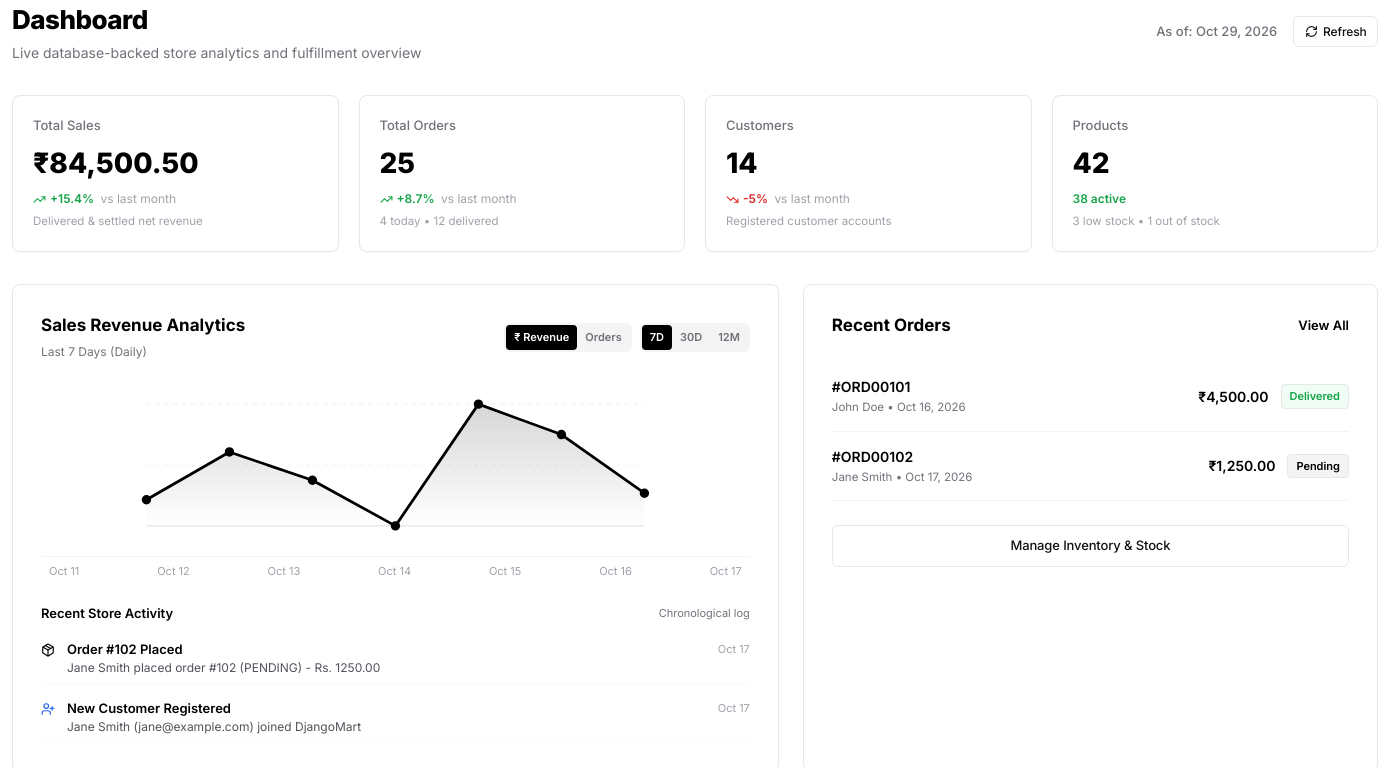
Test: AdminDashboardPage Component › handles period and metric switching in the sales overview chart
The image size is (1390, 768).
Check: the heading "Sales Revenue Analytics" is shown, box [41, 312, 245, 338]
Note: Toggle to Orders metric
Click the button "Orders".
click(604, 337)  # box [577, 325, 630, 350]
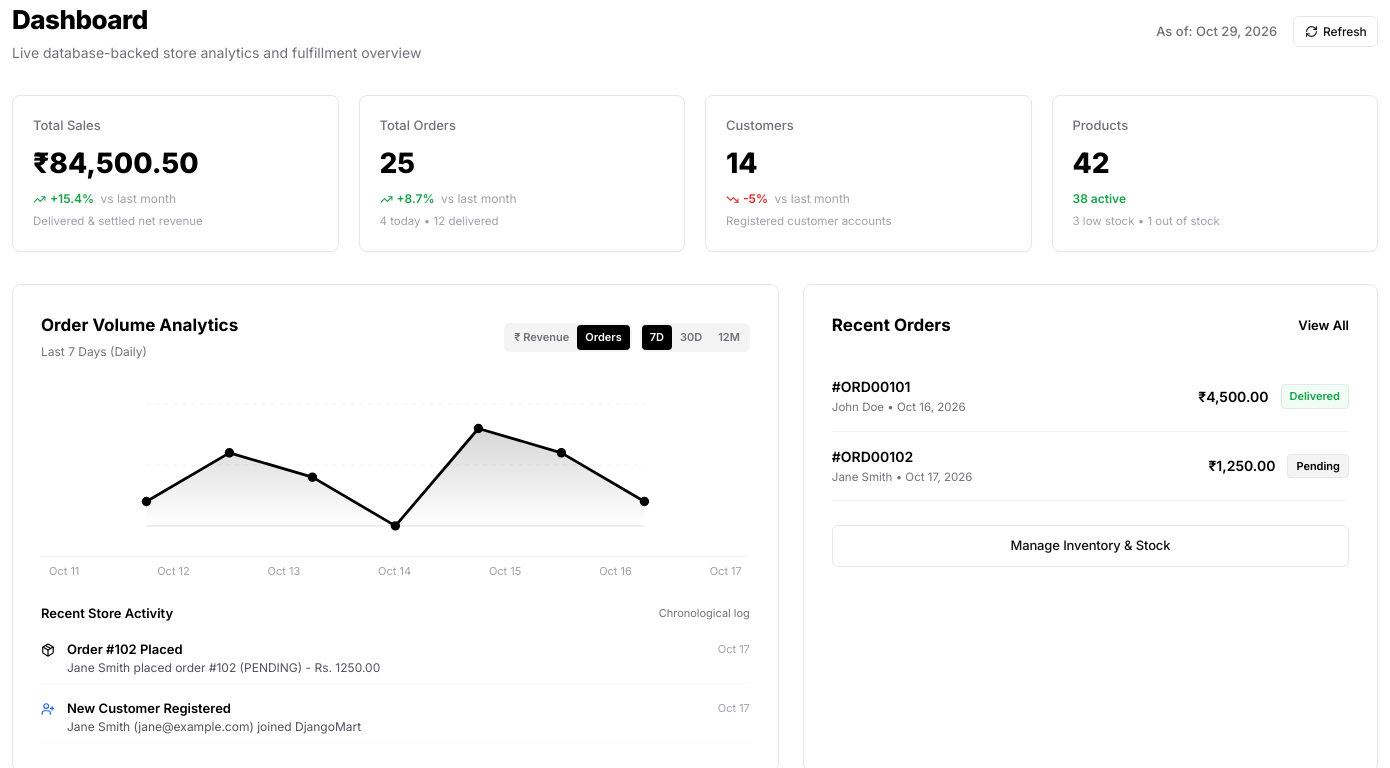
Check: the heading "Order Volume Analytics" is shown, box [41, 312, 238, 338]
Note: Toggle to 30D period
Click the button "30D".
click(691, 337)  # box [672, 325, 710, 350]
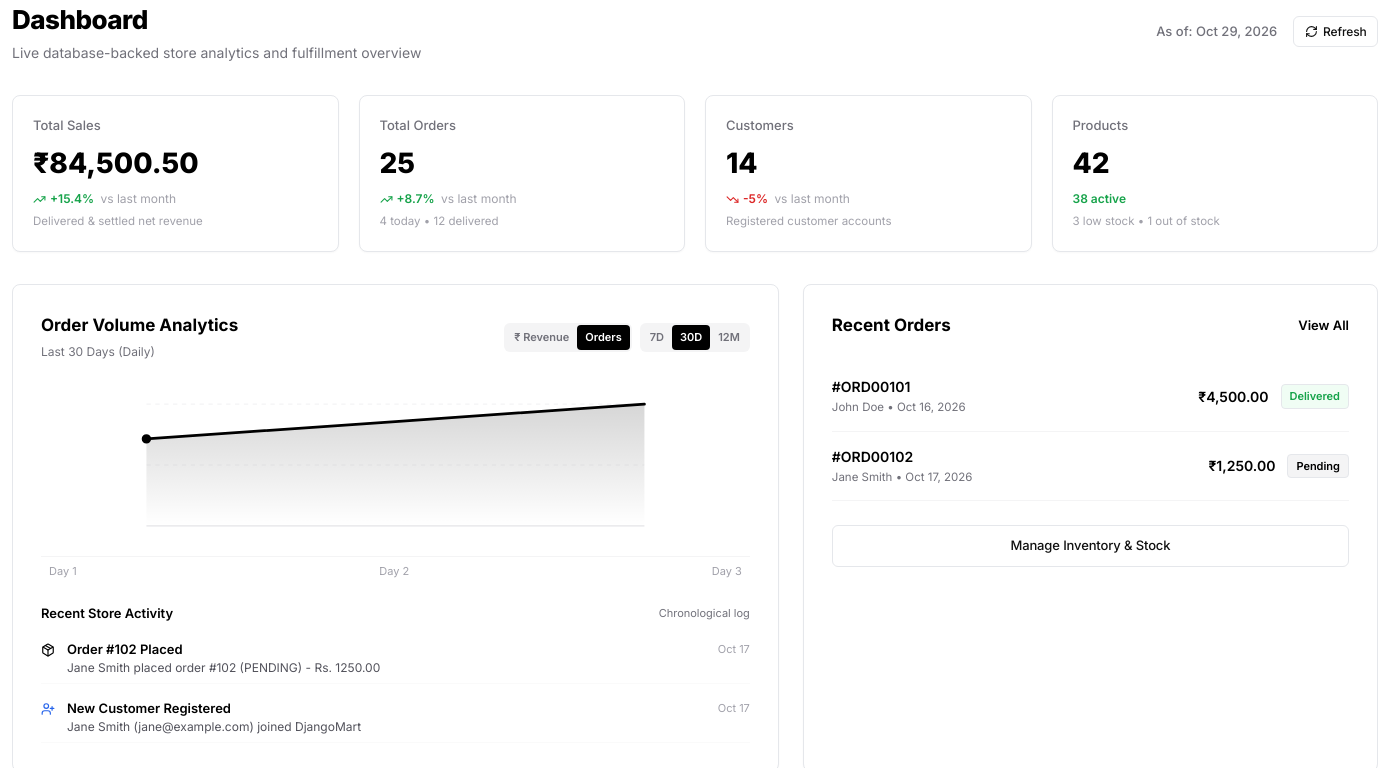
Check: the text "Last 30 Days (Daily)" is shown, box [41, 344, 155, 359]
